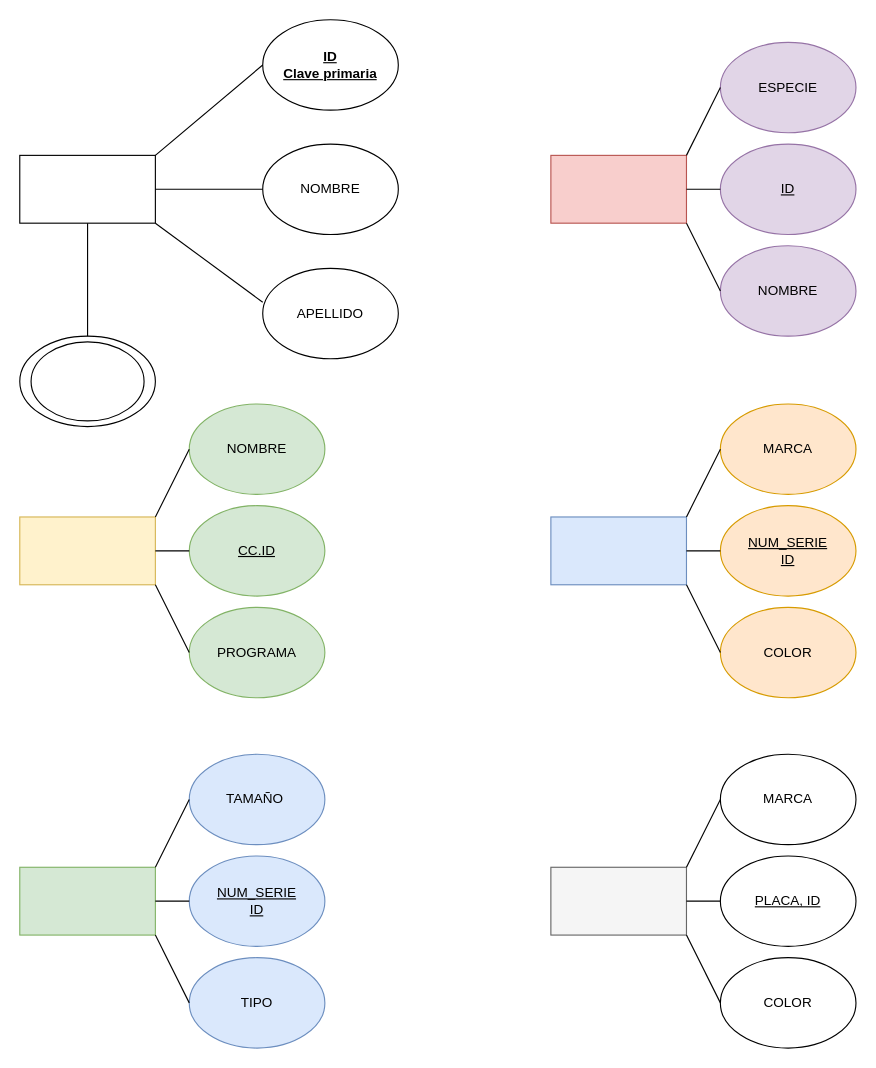
Image size: 876x1068. Some labels were removed from this diagram. The shapes that lost their labels are listed below. From the top down, each one's centre as x and y in pixels, then its label:
At (x=87, y=188): "Persona".
At (x=618, y=188): "MASCOTA".
At (x=87, y=381): "Telefono Multivaluado".
At (x=87, y=550): "APRENDIZ".
At (x=618, y=550): "COMPUTADOR".
At (x=87, y=900): "MONITOR".
At (x=618, y=900): "VEHICULO".
